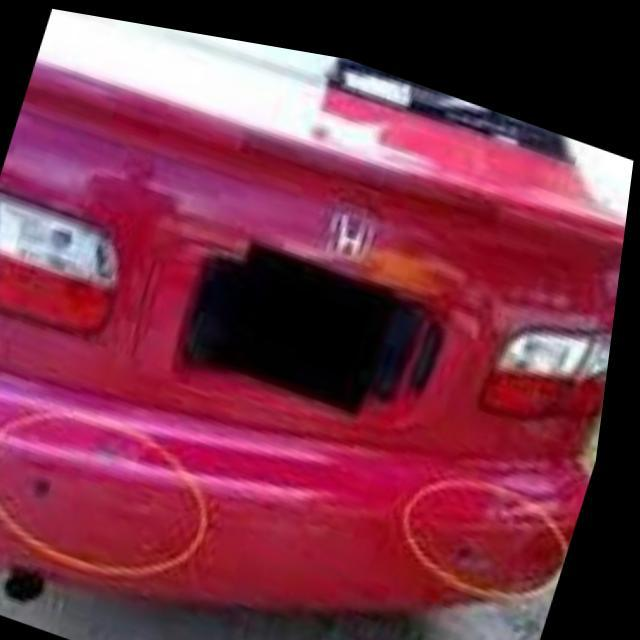rub: (0, 412, 210, 574), (417, 447, 572, 600)
